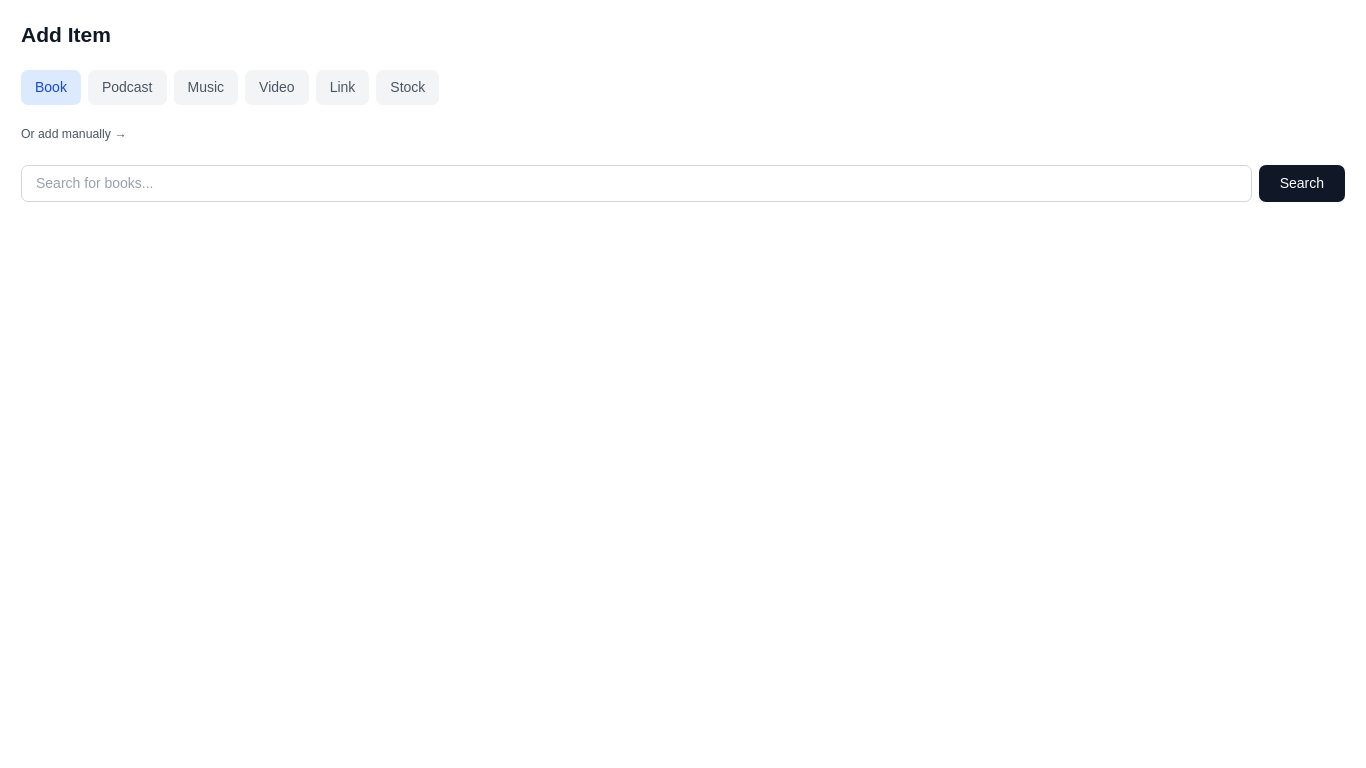
it: AddItemForm › Manual Mode › shows Host label for podcasts
Click the button "Podcast". click: [127, 88]
box: [88,70,166,105]
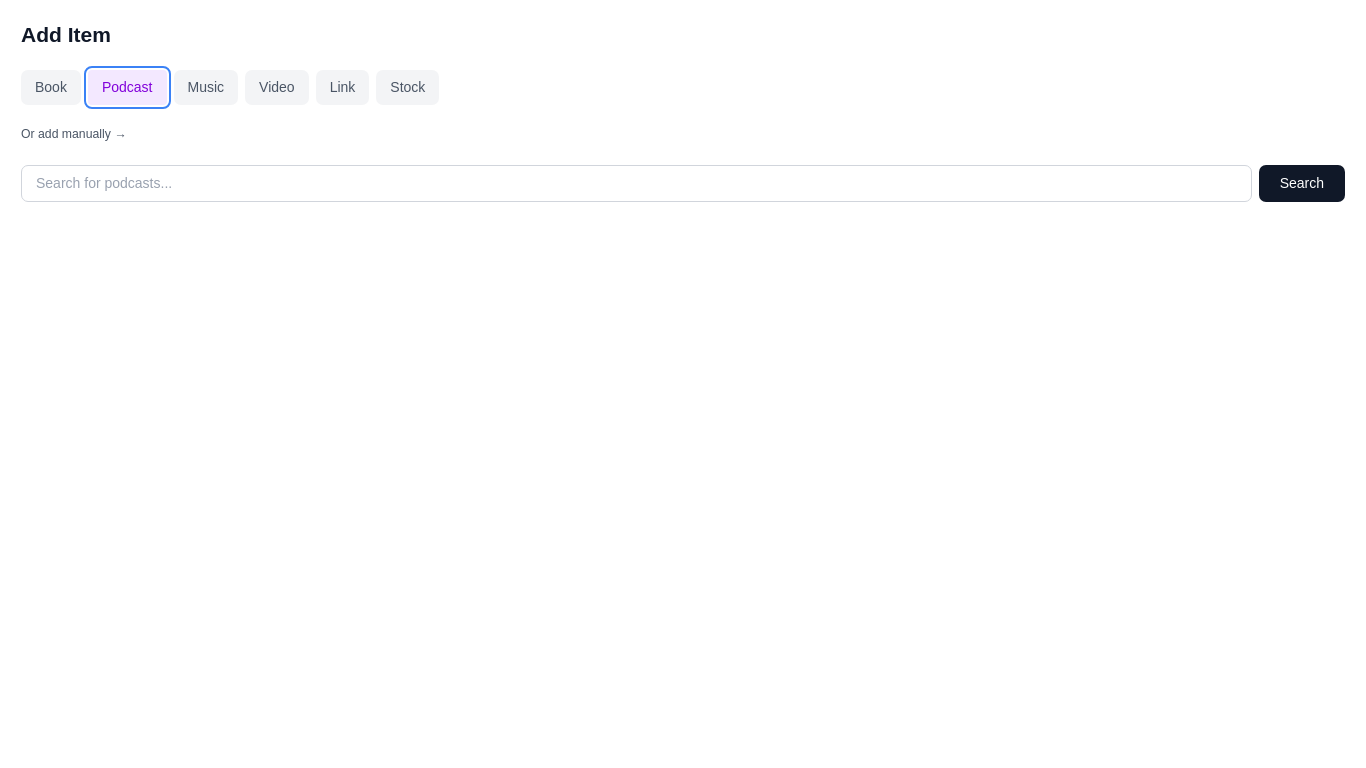
Click the button "Or add manually →". click: [74, 135]
box: [21,126,126,144]
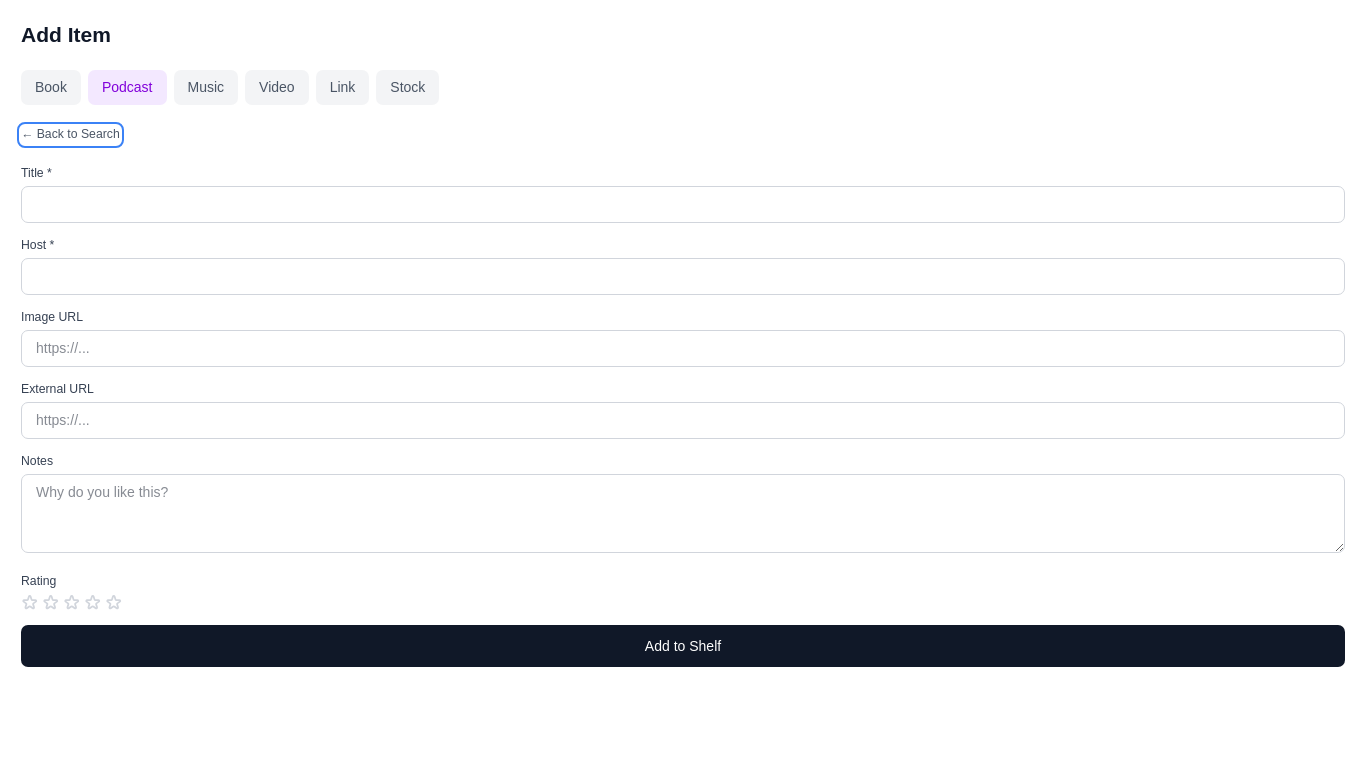
Expected: the text "Host *" is shown, [21,238,54,252]
